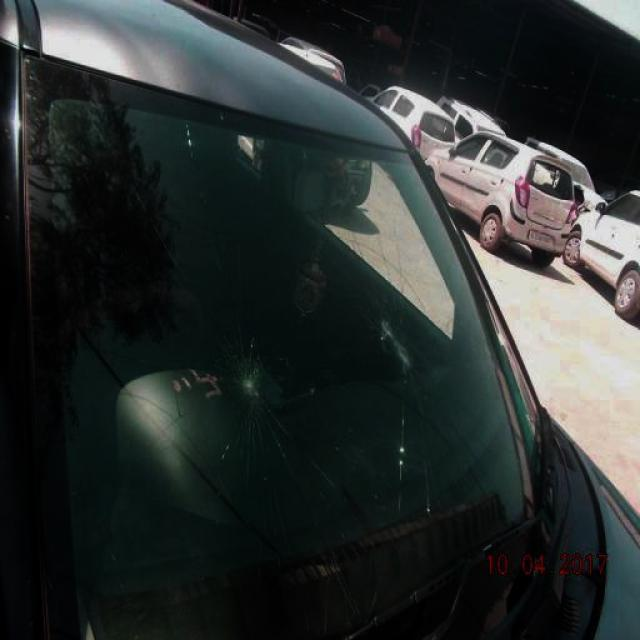car damage: (220, 322, 282, 470), (376, 307, 422, 380)
